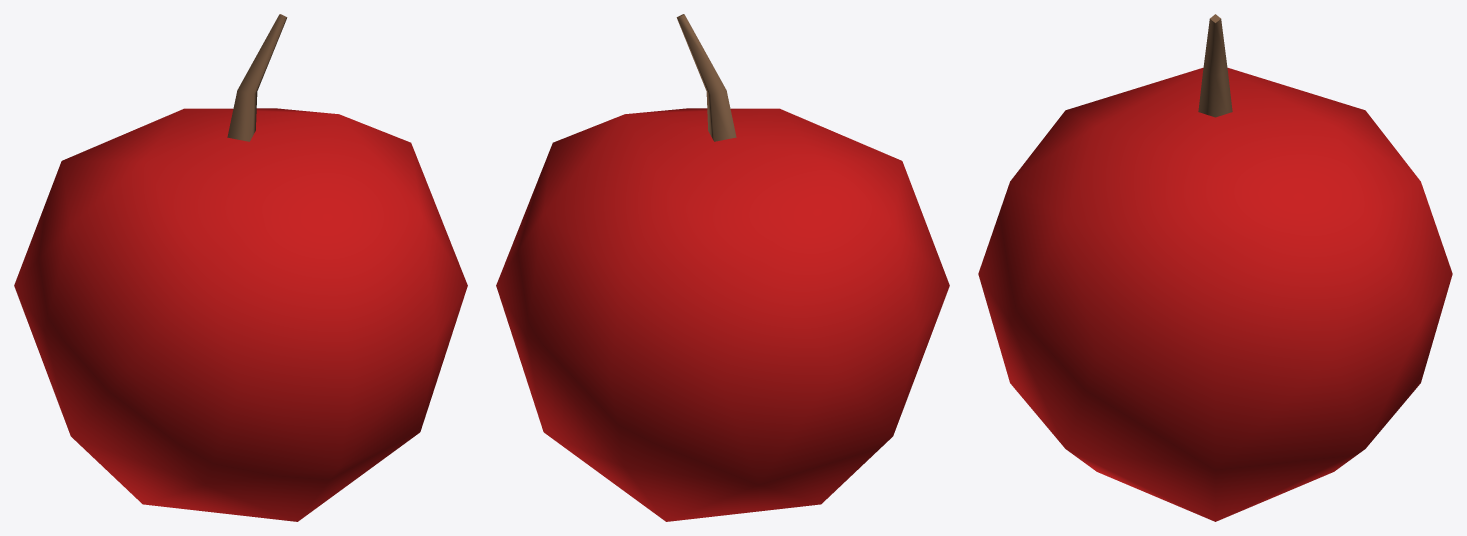
Rendered from SM_apple.fbx.
3 renders of one model, left to right at view 1: azimuth 30°, elevation 25°; view 2: azimuth 150°, elevation 25°; view 3: azimuth 270°, elevation 25°, orthographic. The views are drawn at different scales.
Visible parts, largest first — view 1: GeoSphere008; view 2: GeoSphere008; view 3: GeoSphere008.
Boxes of the visible parts, bbox=[...] form: GeoSphere008: bbox=[14, 14, 467, 521]; GeoSphere008: bbox=[496, 14, 949, 521]; GeoSphere008: bbox=[978, 14, 1452, 521].
Size of the model in its own units: 14.54 by 17.3 by 14.54.
